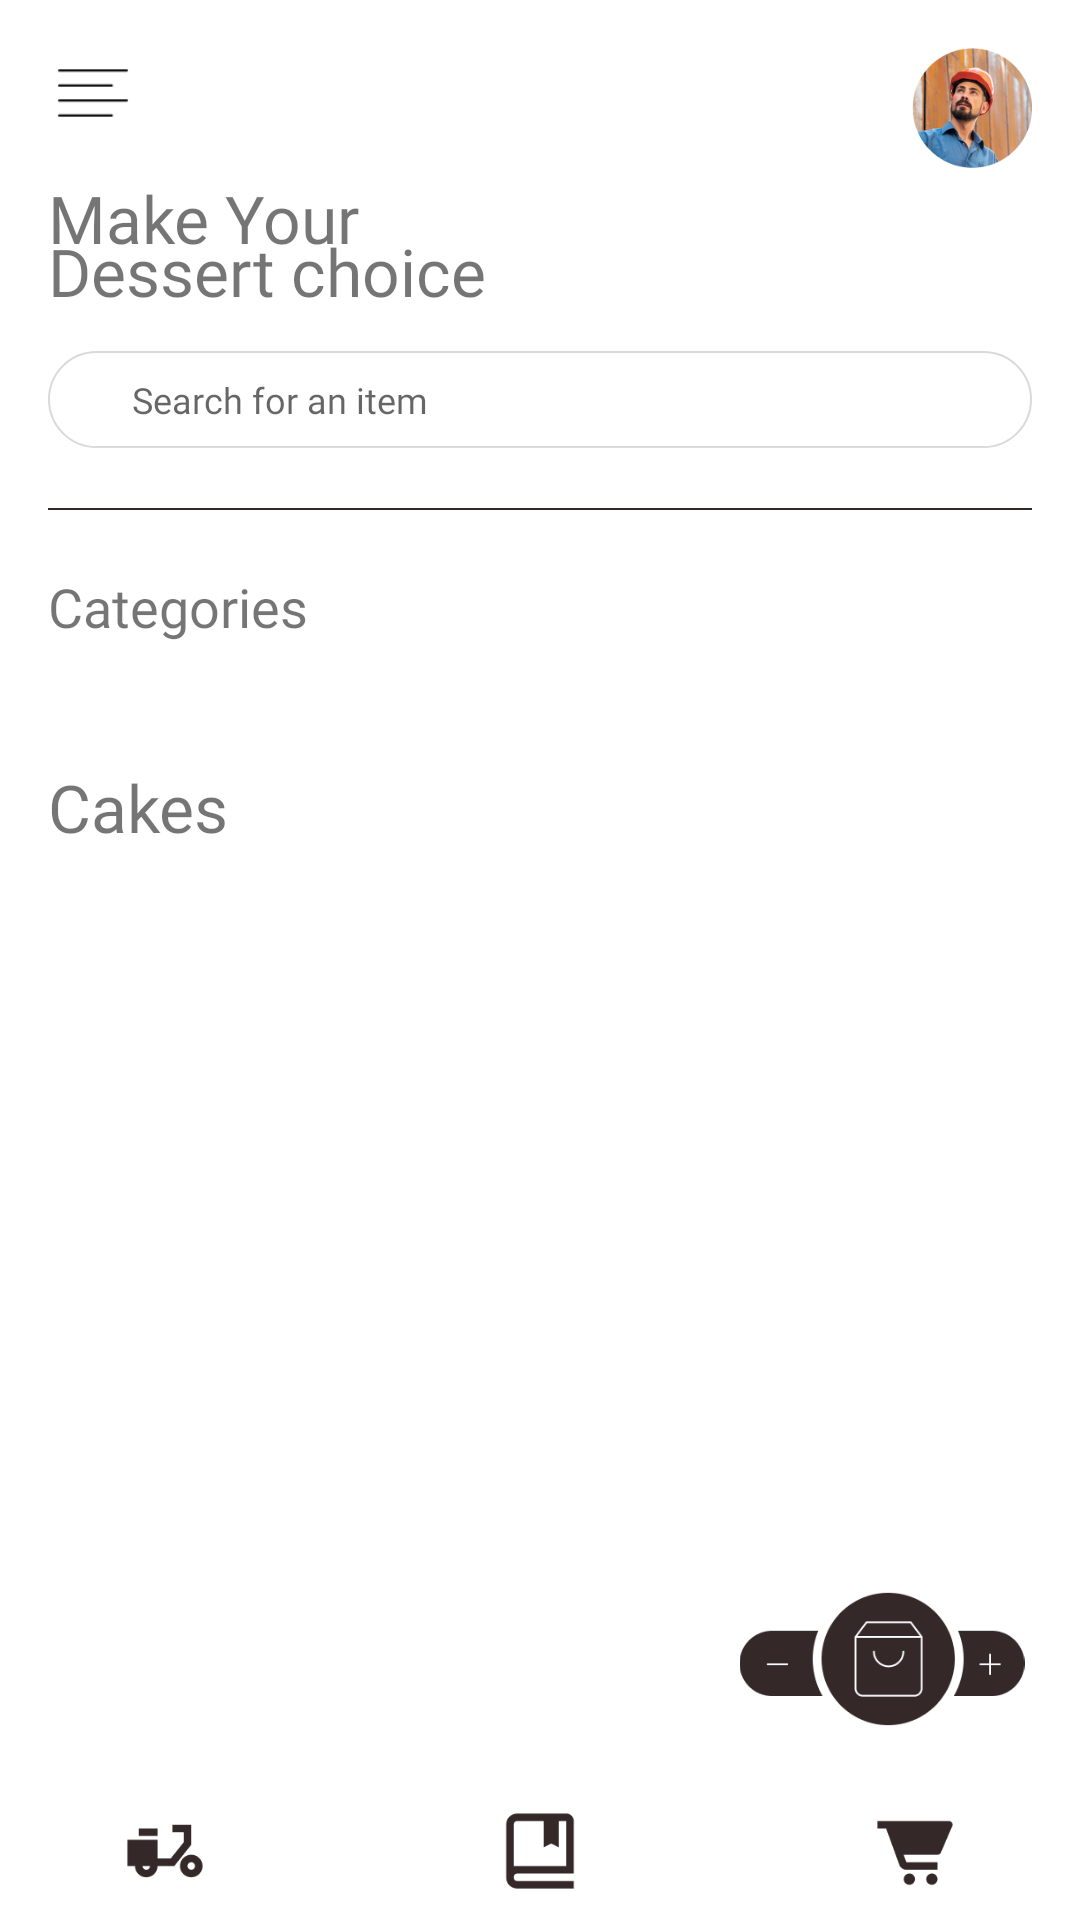

Named icons in this screenshot (1080 × 1920) and their bounding boxes, (x1, y1, x2, y2):
bookmark: (506, 1813, 574, 1889)
cart: (877, 1820, 953, 1885)
delivery: (127, 1824, 203, 1878)
menu: (58, 69, 128, 117)
